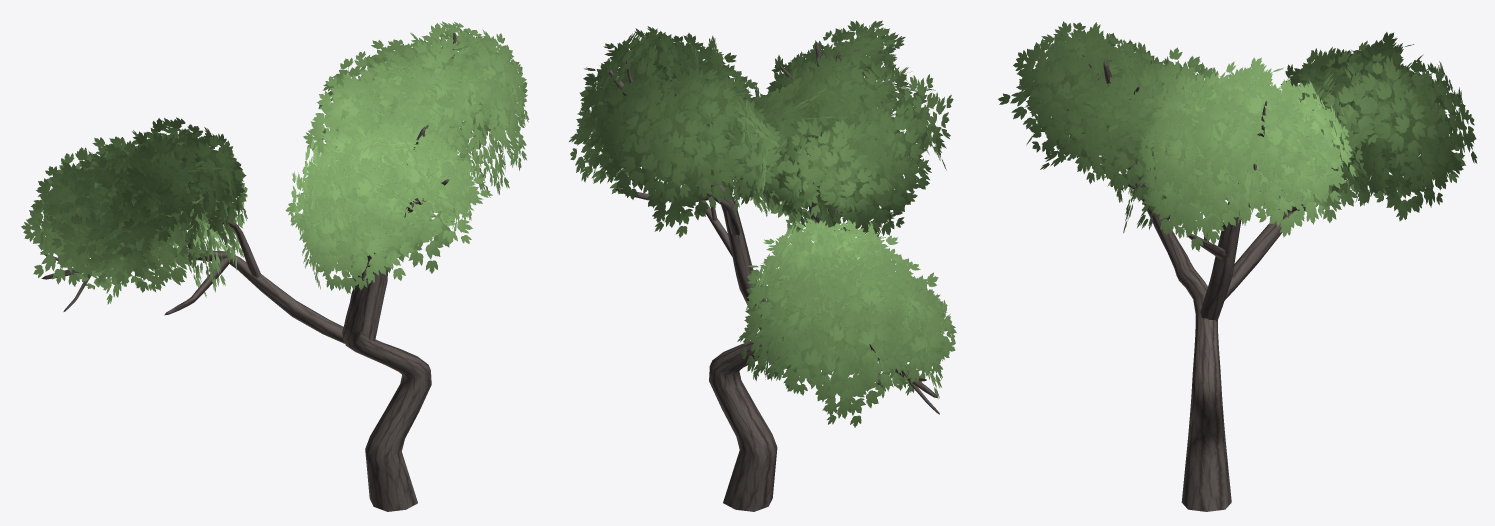
File: MapleTree_2.glb
The picture shows the model from 3 angles, left to right: view 1: azimuth 30°, elevation 25°; view 2: azimuth 150°, elevation 25°; view 3: azimuth 270°, elevation 25°; orthographic projection. The views are drawn at different scales.
Visible parts, largest first — view 1: MapleTree_2; view 2: MapleTree_2; view 3: MapleTree_2.
Part boxes in pixels (bbox=[...]): MapleTree_2: bbox=[21, 21, 529, 511]; MapleTree_2: bbox=[569, 20, 956, 511]; MapleTree_2: bbox=[998, 21, 1477, 511].
Size of the model in its own units: 6.7 by 6.71 by 6.24.
Materials: 2 (2 with a texture image).
